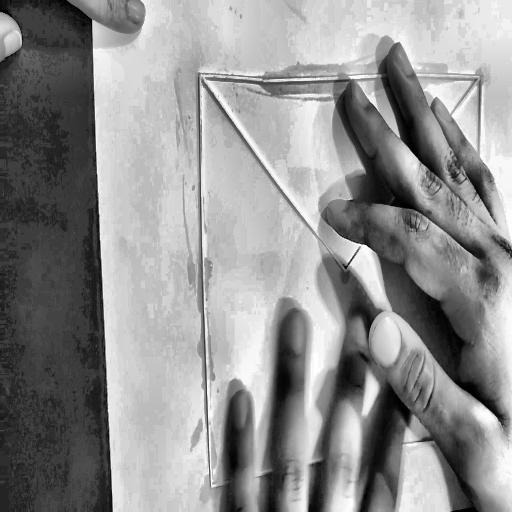envelop: (192, 58, 497, 502)
